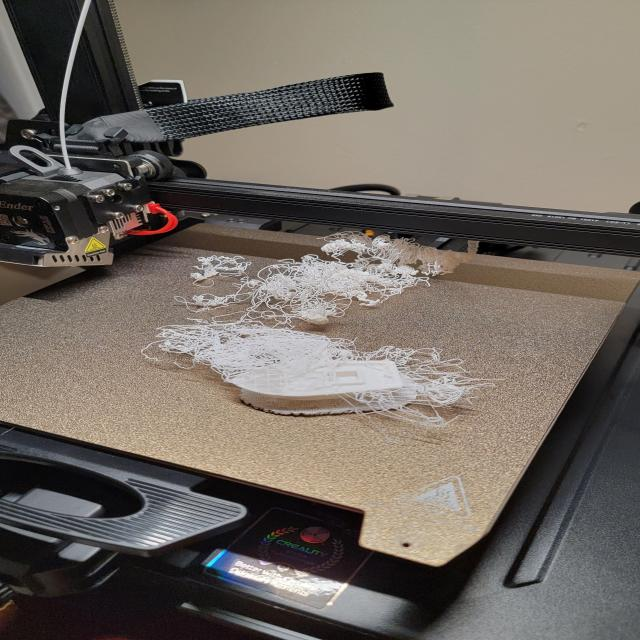spaghetti: (147, 321, 487, 438), (163, 223, 481, 324)
